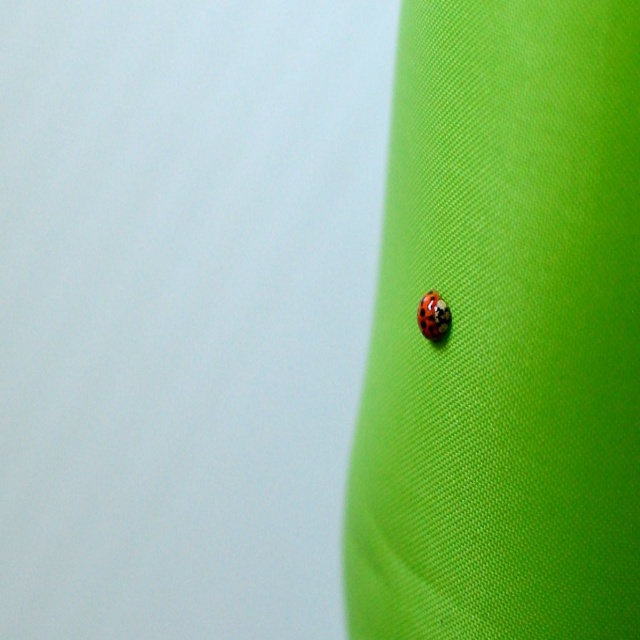Ladybug: (416, 287, 452, 343)
